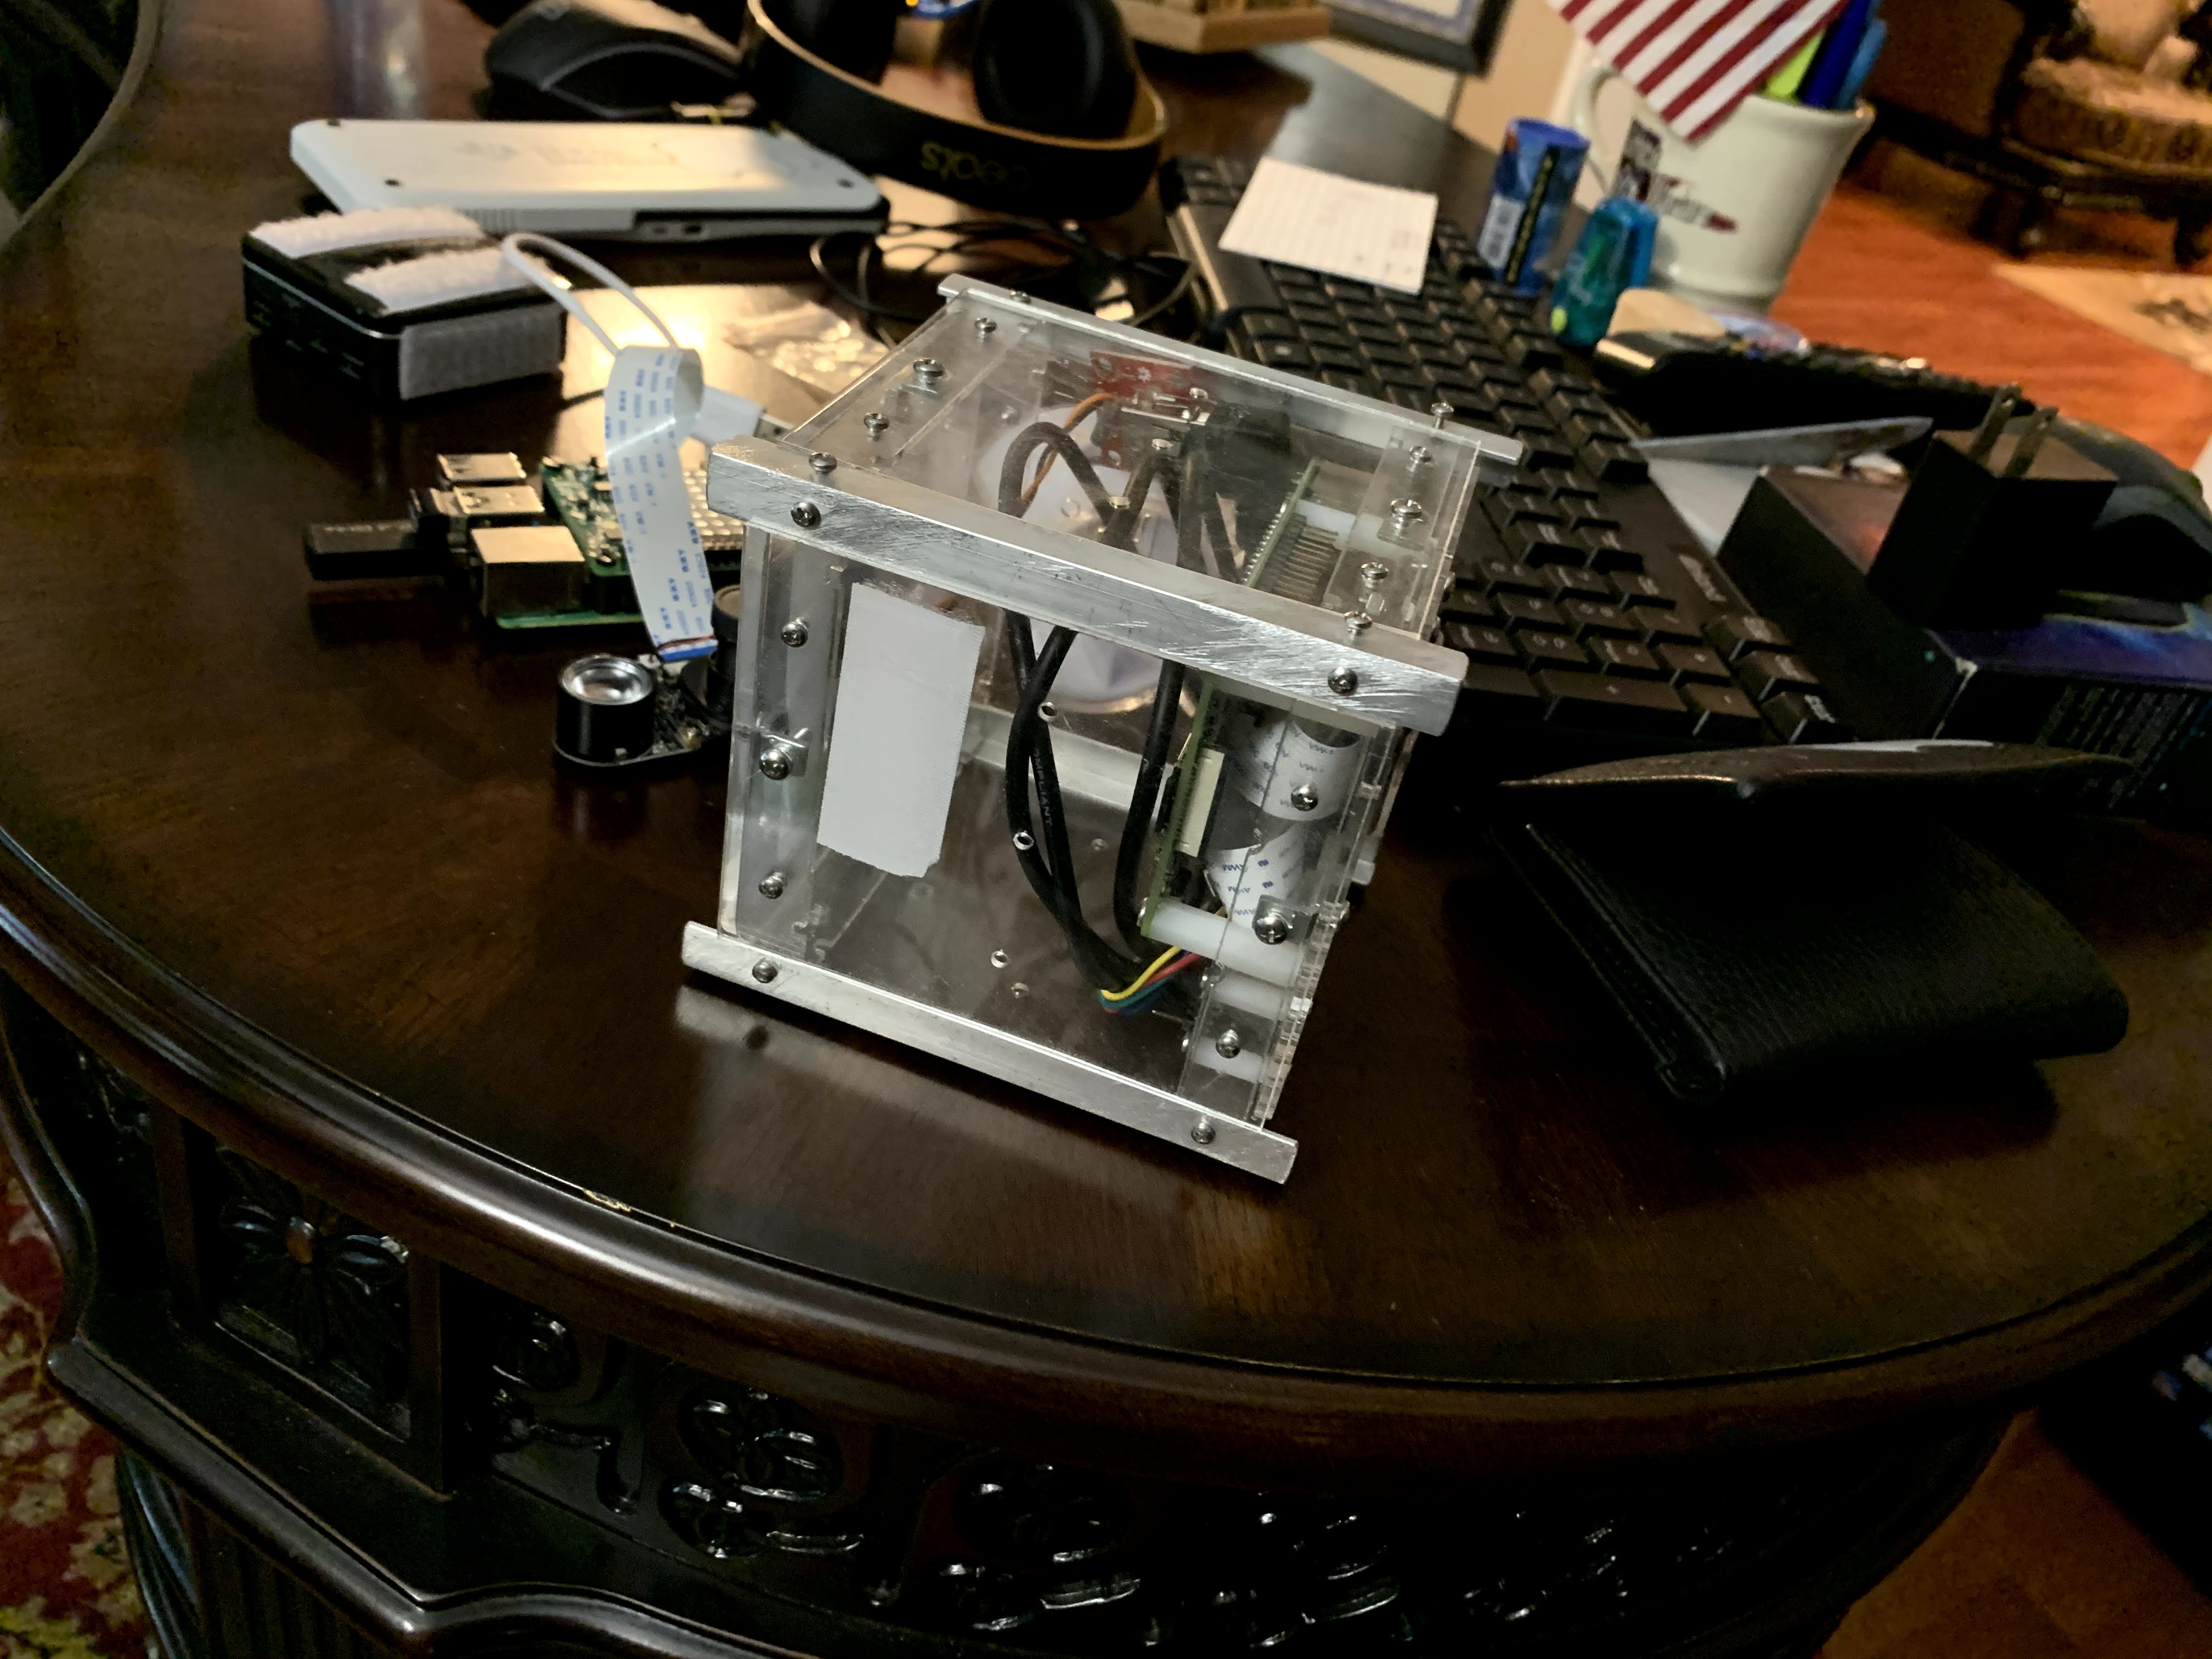Space-debris-cubesat: (683, 256, 1540, 1209)
